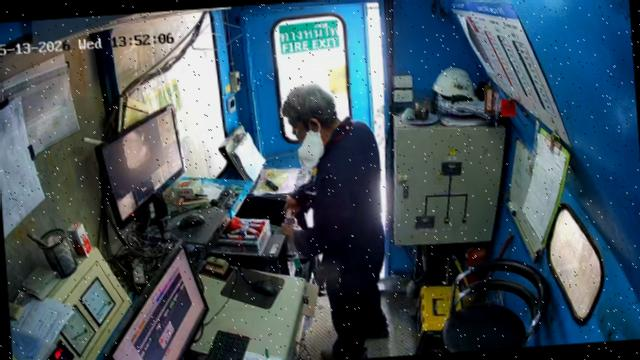Head: (281, 85, 339, 144)
People: (281, 85, 389, 359)
